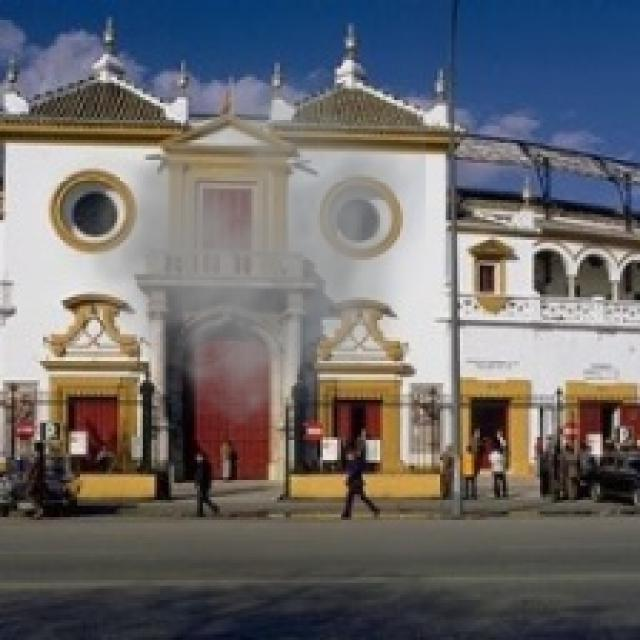Smoke: (48, 57, 426, 443)
